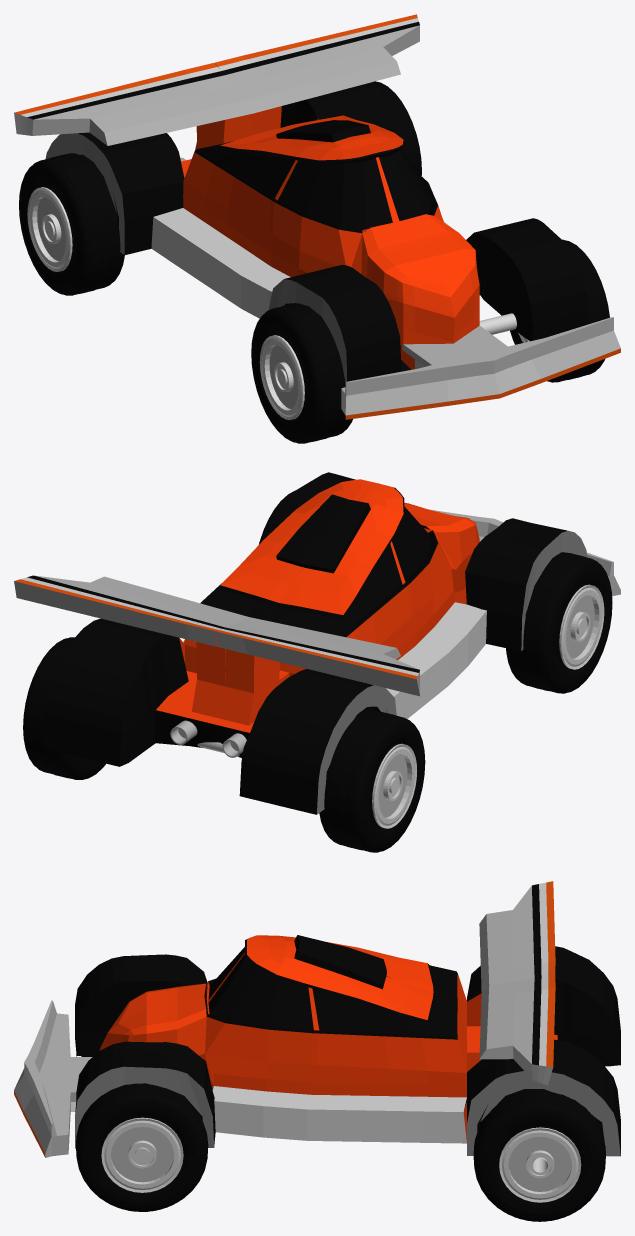
The model's file is CR-MINI-6B.fbx.
3 renders of one model, top to bottom at view 1: azimuth 30°, elevation 25°; view 2: azimuth 150°, elevation 25°; view 3: azimuth 270°, elevation 25°, orthographic. The views are drawn at different scales.
Parts seen in each view (by area): view 1: Body, WHEEL.004, WHEEL.001, WHEEL.003, WHEEL.002; view 2: Body, WHEEL.004, WHEEL.001, WHEEL.002; view 3: Body, WHEEL.002, WHEEL.003.
Boxes of the visible parts, left/top/right/bottom form: Body: left=14, top=14, right=620, bottom=419; WHEEL.004: left=19, top=153, right=124, bottom=295; WHEEL.001: left=251, top=303, right=516, bottom=443; WHEEL.003: left=510, top=239, right=609, bottom=382; WHEEL.002: left=373, top=81, right=421, bottom=175; Body: left=14, top=472, right=620, bottom=814; WHEEL.004: left=319, top=709, right=425, bottom=852; WHEEL.001: left=506, top=552, right=612, bottom=693; WHEEL.002: left=23, top=637, right=239, bottom=779; Body: left=14, top=881, right=620, bottom=1157; WHEEL.002: left=473, top=1089, right=605, bottom=1221; WHEEL.003: left=76, top=1083, right=208, bottom=1211.
Size of the model in its own units: 151 by 77.19 by 208.
